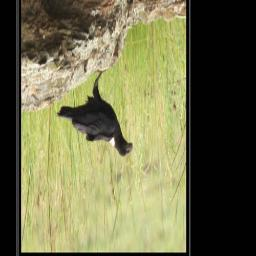Crow: (56, 70, 134, 158)
